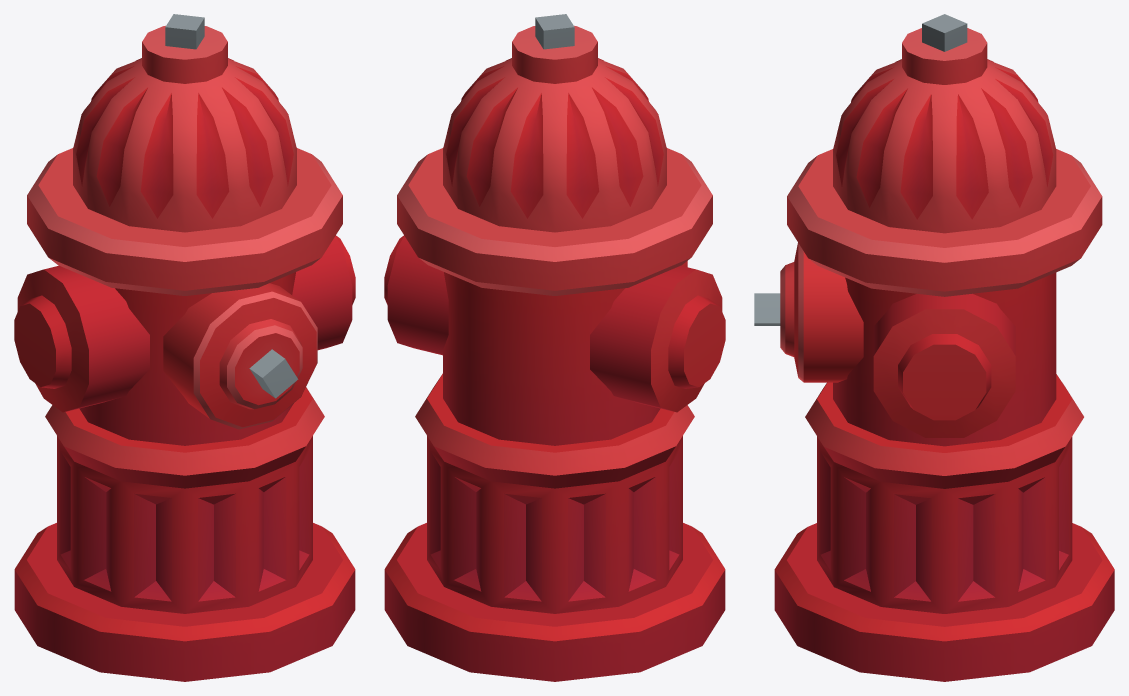
Rendered from fire_hydrant.glb.
3 renders of one model, left to right at view 1: azimuth 30°, elevation 25°; view 2: azimuth 150°, elevation 25°; view 3: azimuth 270°, elevation 25°, orthographic.
Parts seen in each view (by area): view 1: fire_hydrant; view 2: fire_hydrant; view 3: fire_hydrant.
Part boxes in pixels (x1,y1,x2,y2): fire_hydrant: [14, 14, 355, 681]; fire_hydrant: [384, 14, 725, 681]; fire_hydrant: [754, 14, 1114, 681].
Size of the model in its own units: 0.6453 by 1.21 by 0.6743.
1 material, 1 textured.
